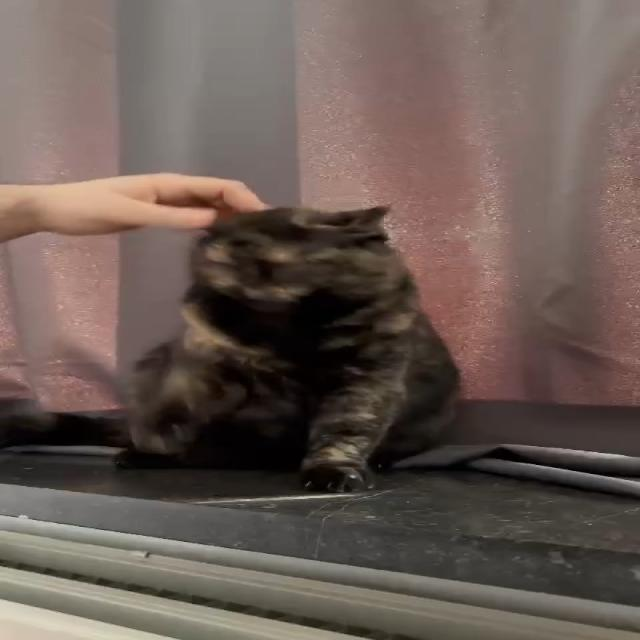authorized: (110, 203, 462, 493)
